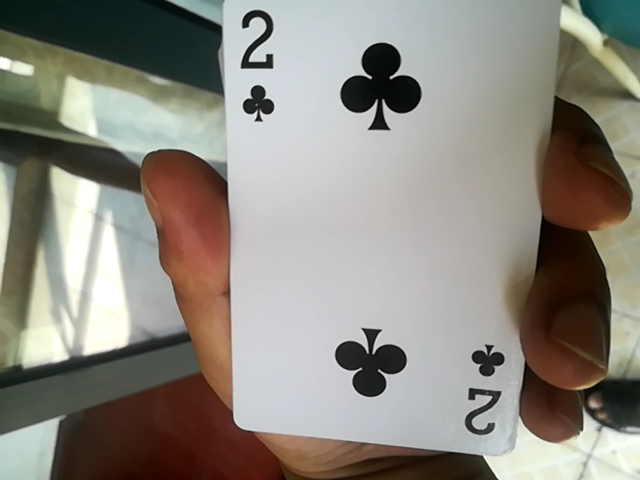mh 2: (203, 11, 566, 450)
